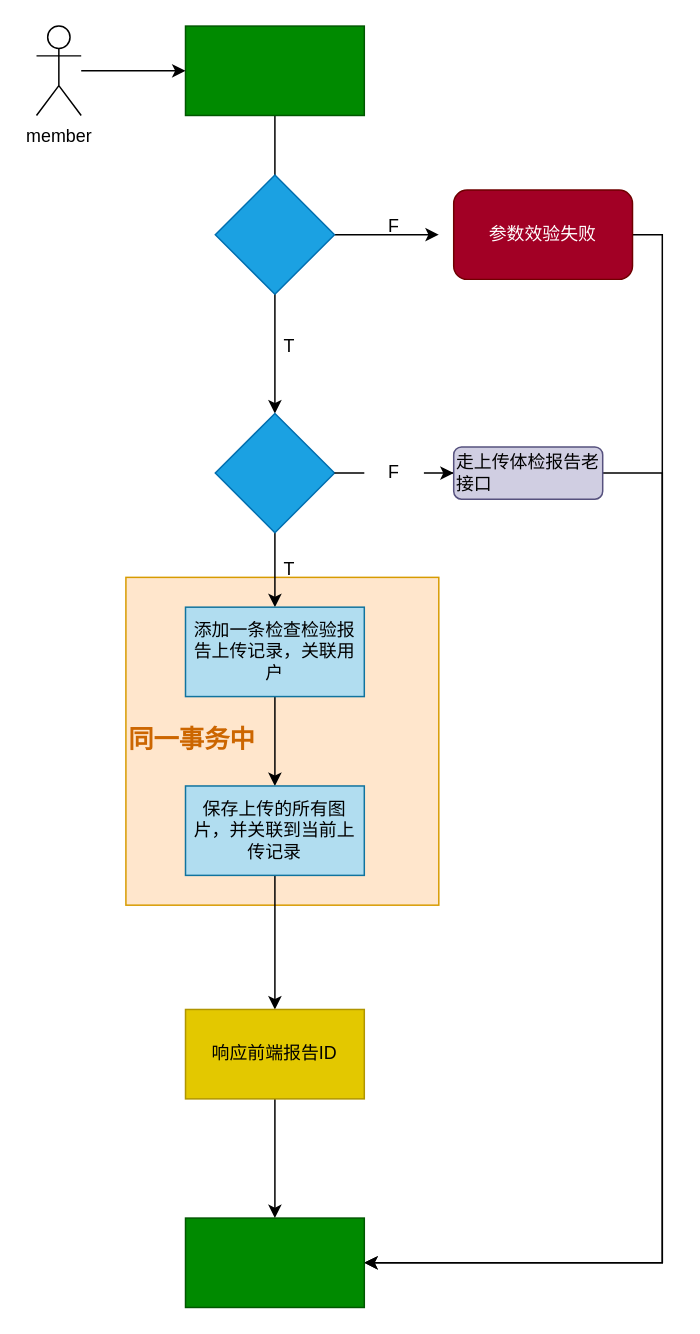
Some shapes in this 700 by 1334 pixel diagram are drawn without their labels. The centre of each missing label's shape, as x and y in pixels:
上传报告: (274,70)
参数效验: (274,234)
是否是检查检验报告: (274,472)
结束: (274,1262)
